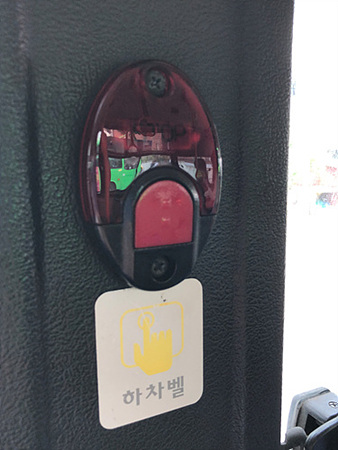bell: (76, 58, 224, 290)
